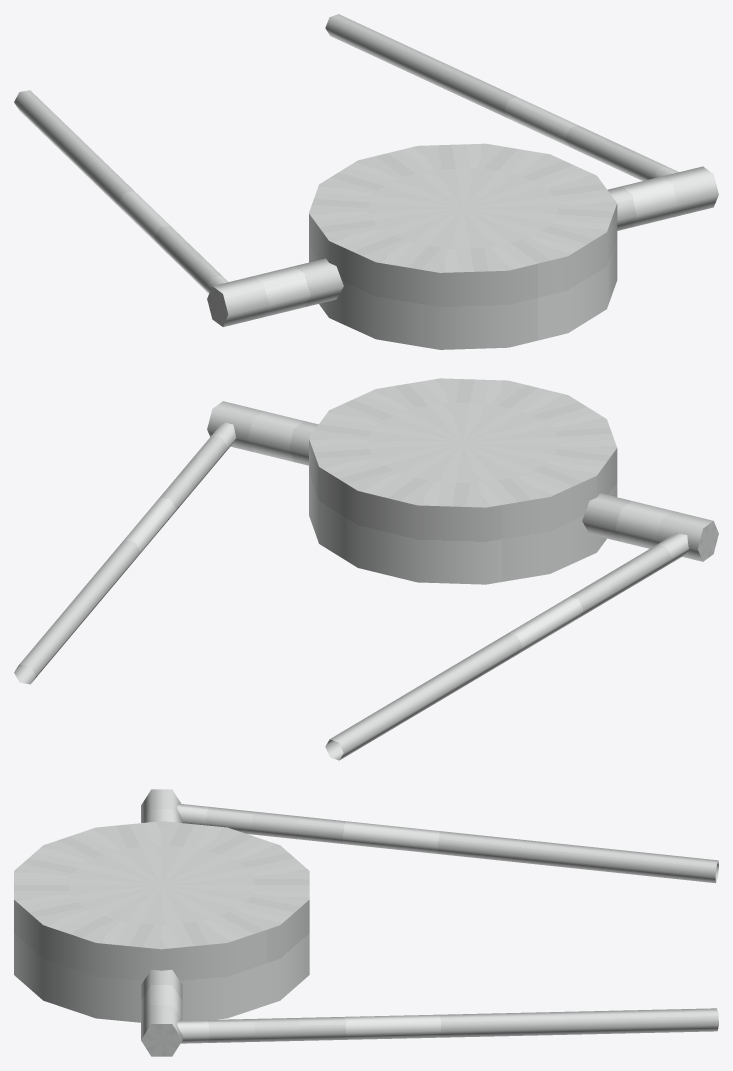
The model's file is nycsignalarm_regular4_c0.obj.
The picture shows the model from 3 angles, top to bottom: view 1: azimuth 30°, elevation 25°; view 2: azimuth 150°, elevation 25°; view 3: azimuth 270°, elevation 25°; orthographic projection. The views are drawn at different scales.
Parts seen in each view (by area): view 1: nycsignalarm_regular4_c0; view 2: nycsignalarm_regular4_c0; view 3: nycsignalarm_regular4_c0.
Part boxes in pixels (bbox=[...]): nycsignalarm_regular4_c0: bbox=[14, 14, 718, 349]; nycsignalarm_regular4_c0: bbox=[14, 378, 718, 760]; nycsignalarm_regular4_c0: bbox=[14, 789, 718, 1056].
Size of the model in its own units: 1.5 by 0.225 by 1.9.
